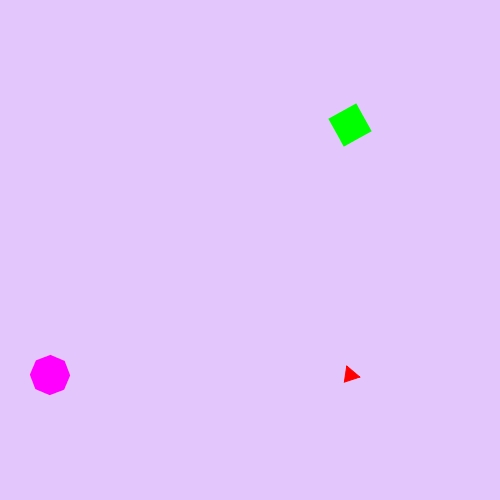octagon: (26, 351, 74, 399)
quadrilateral: (324, 99, 376, 151)
triangle: (338, 362, 363, 388)
